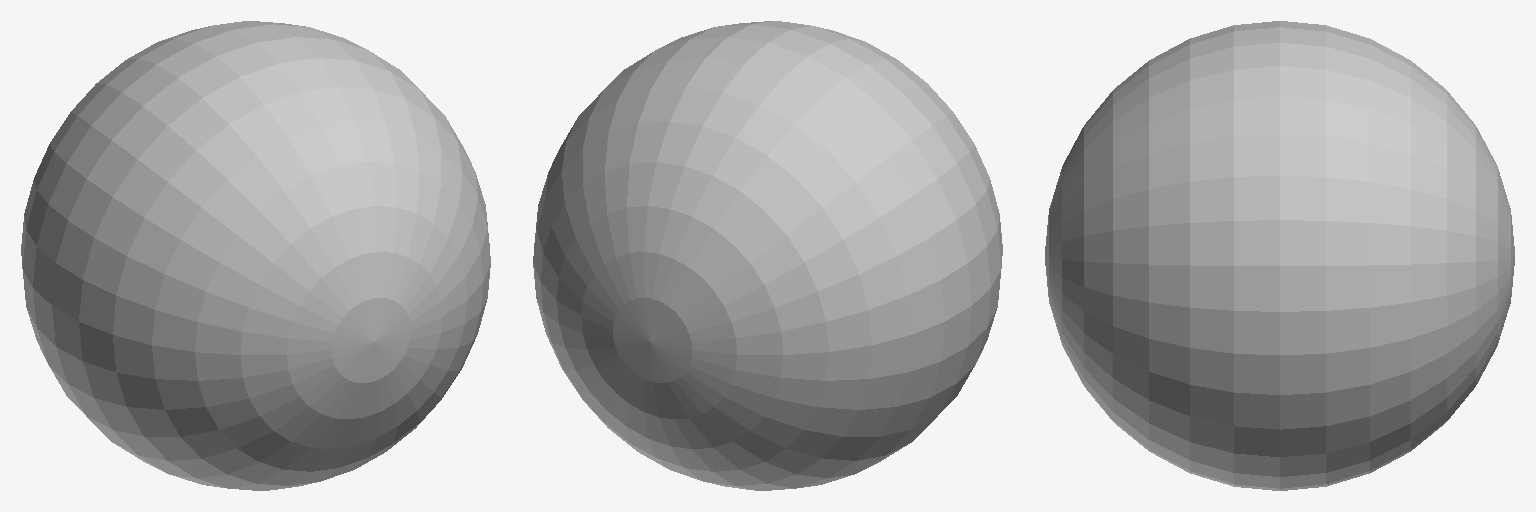
Rendered from WheelFL_001.OBJ.
3 renders of one model, left to right at view 1: azimuth 30°, elevation 25°; view 2: azimuth 150°, elevation 25°; view 3: azimuth 270°, elevation 25°, orthographic.
Parts seen in each view (by area): view 1: WheelFL_001_Sphere.007; view 2: WheelFL_001_Sphere.007; view 3: WheelFL_001_Sphere.007.
Boxes of the visible parts, box(x1,y1,x2,y2) form: WheelFL_001_Sphere.007: box(21, 21, 490, 490); WheelFL_001_Sphere.007: box(533, 21, 1002, 490); WheelFL_001_Sphere.007: box(1045, 21, 1514, 490).
Bounding box in the file's own units: 0.9105 × 0.9105 × 0.9105.